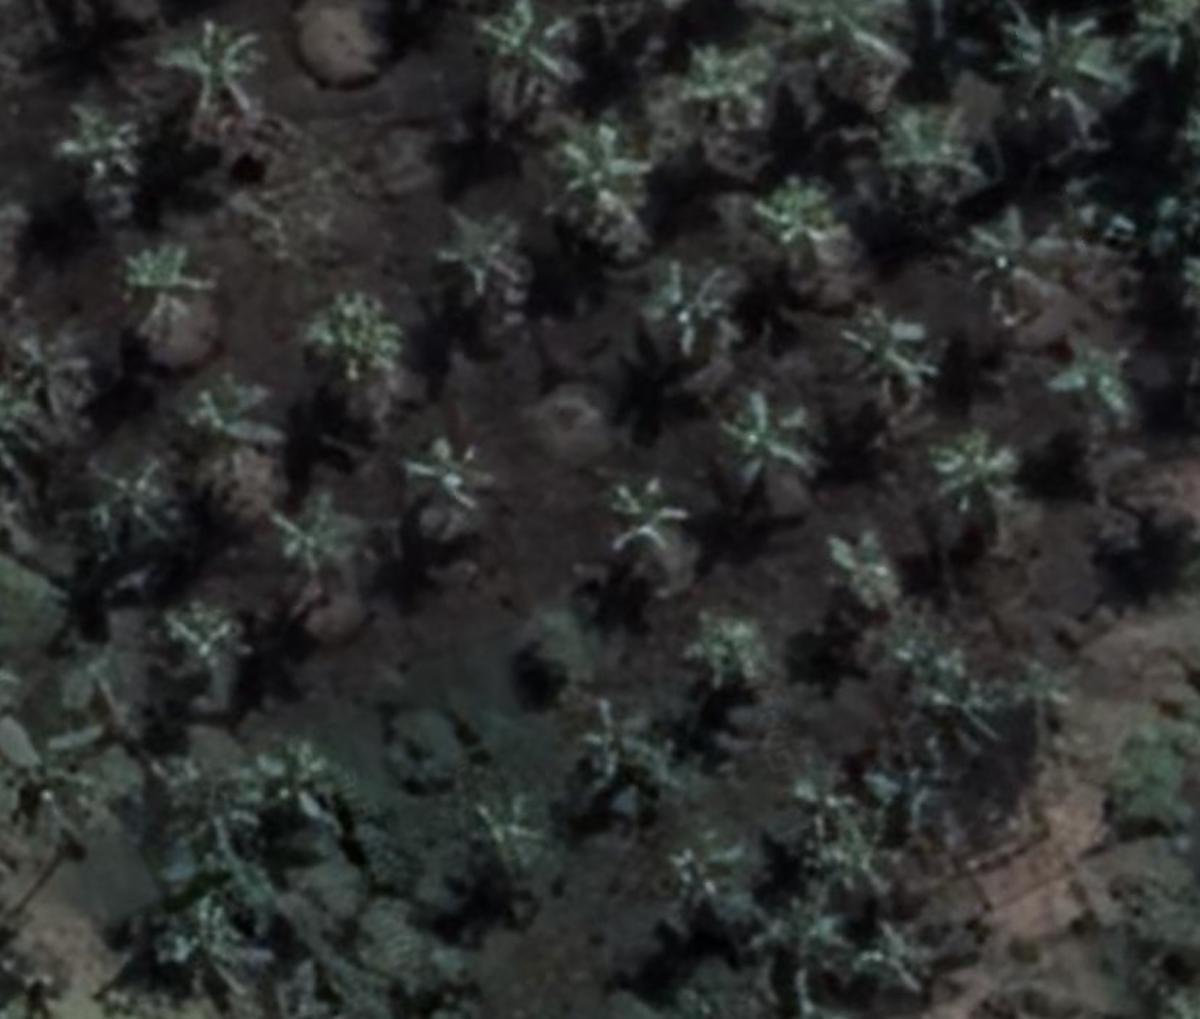coconut: (993, 5, 1128, 129), (425, 209, 555, 333), (161, 18, 285, 145), (950, 204, 1073, 333), (639, 251, 774, 365), (169, 380, 300, 497), (922, 429, 1057, 539), (470, 2, 592, 121), (880, 108, 999, 220), (551, 124, 650, 258), (560, 698, 696, 794), (745, 179, 859, 288), (670, 40, 786, 148), (835, 304, 947, 413), (146, 894, 251, 1010), (848, 908, 975, 1003), (255, 477, 364, 586), (294, 277, 409, 375), (715, 381, 819, 486), (53, 110, 155, 217), (745, 895, 850, 995), (123, 243, 224, 346), (903, 651, 1012, 741), (152, 600, 266, 685), (673, 603, 777, 696), (246, 747, 351, 839), (15, 322, 113, 420), (1027, 314, 1128, 404), (397, 436, 483, 522), (88, 460, 174, 545), (609, 486, 699, 564), (468, 792, 539, 881), (827, 539, 902, 618)
